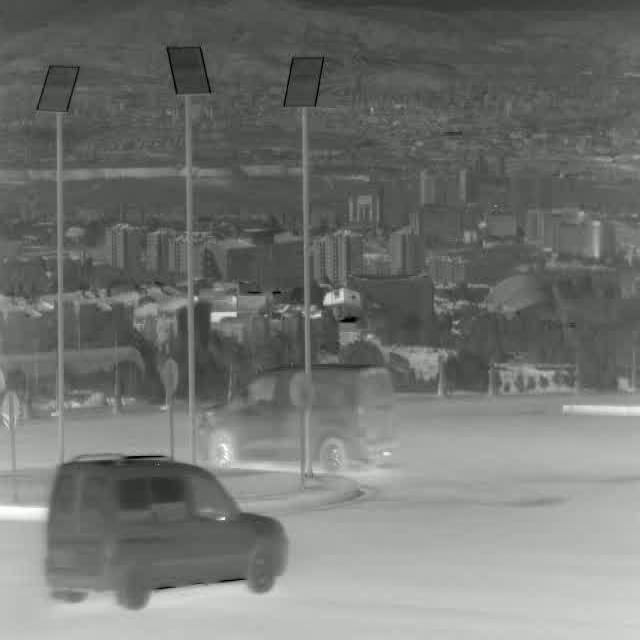Car: (48, 456, 290, 612), (199, 366, 399, 470)
